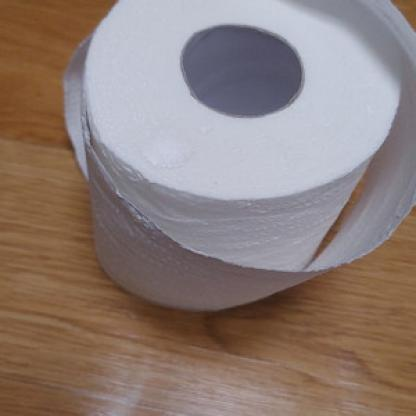tissue: (58, 0, 416, 318)
